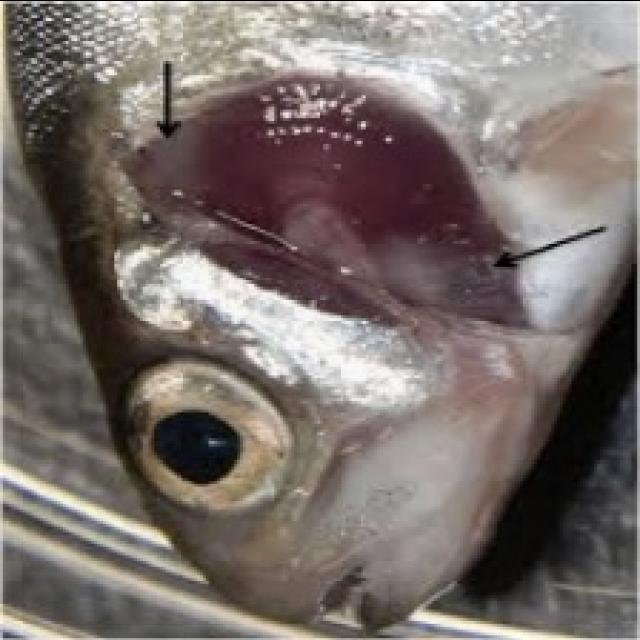Gill Disease: (22, 22, 638, 624)
